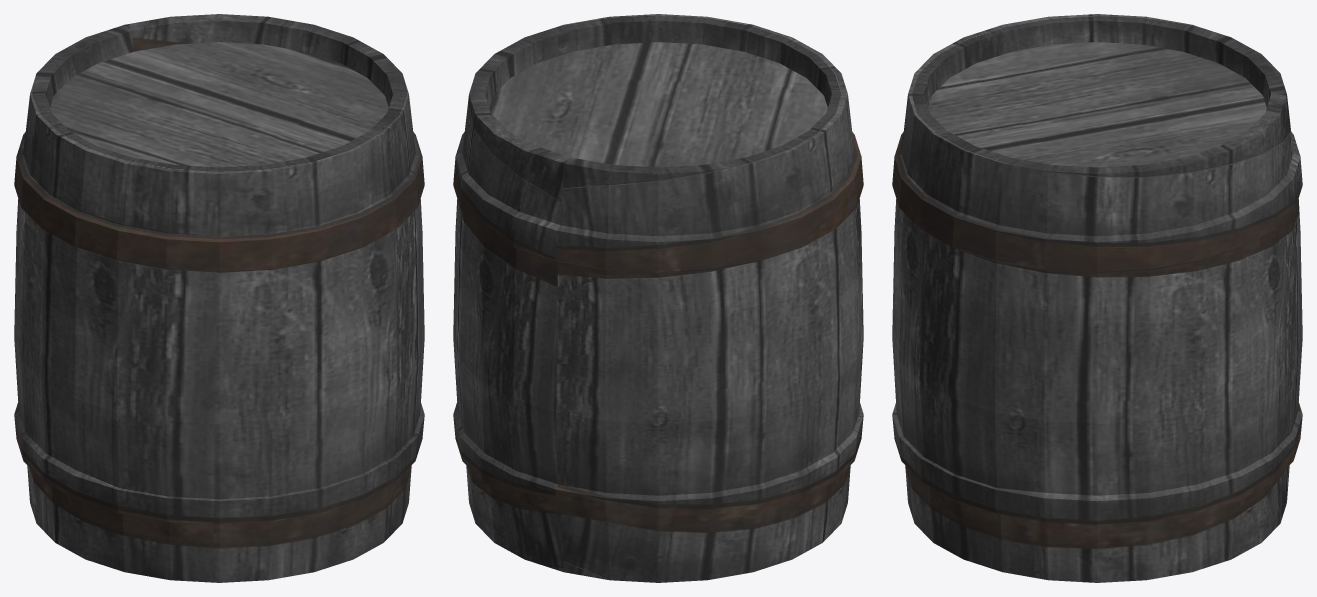
The model's file is barrel.obj.
3 renders of one model, left to right at view 1: azimuth 30°, elevation 25°; view 2: azimuth 150°, elevation 25°; view 3: azimuth 270°, elevation 25°, orthographic.
Visible parts, largest first — view 1: obj0; view 2: obj0; view 3: obj0.
Part boxes in pixels (bbox=[...]): obj0: bbox=[14, 14, 424, 582]; obj0: bbox=[453, 14, 863, 582]; obj0: bbox=[892, 14, 1302, 582].
Size of the model in its own units: 0.91 by 1 by 0.91.
3 materials, 3 textured.
